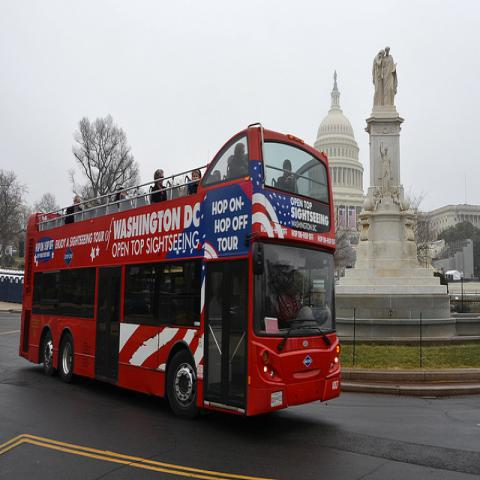bus: (19, 124, 341, 420)
